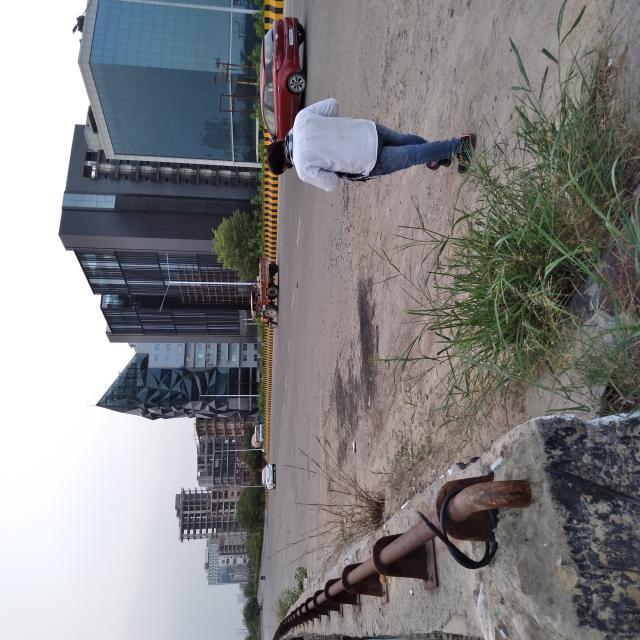Car: (373, 344, 464, 405)
